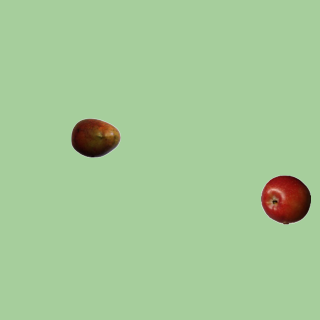Apple Braeburn: (260, 174, 310, 224)
Mango Red: (70, 112, 120, 162)
